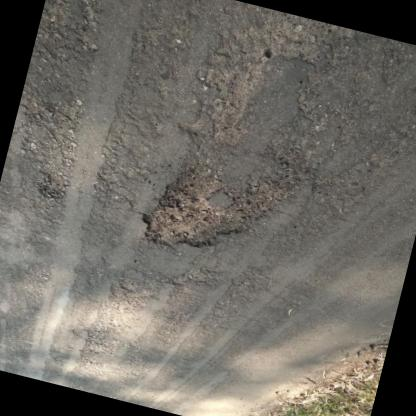pothole: (134, 156, 278, 272), (34, 168, 72, 206)
